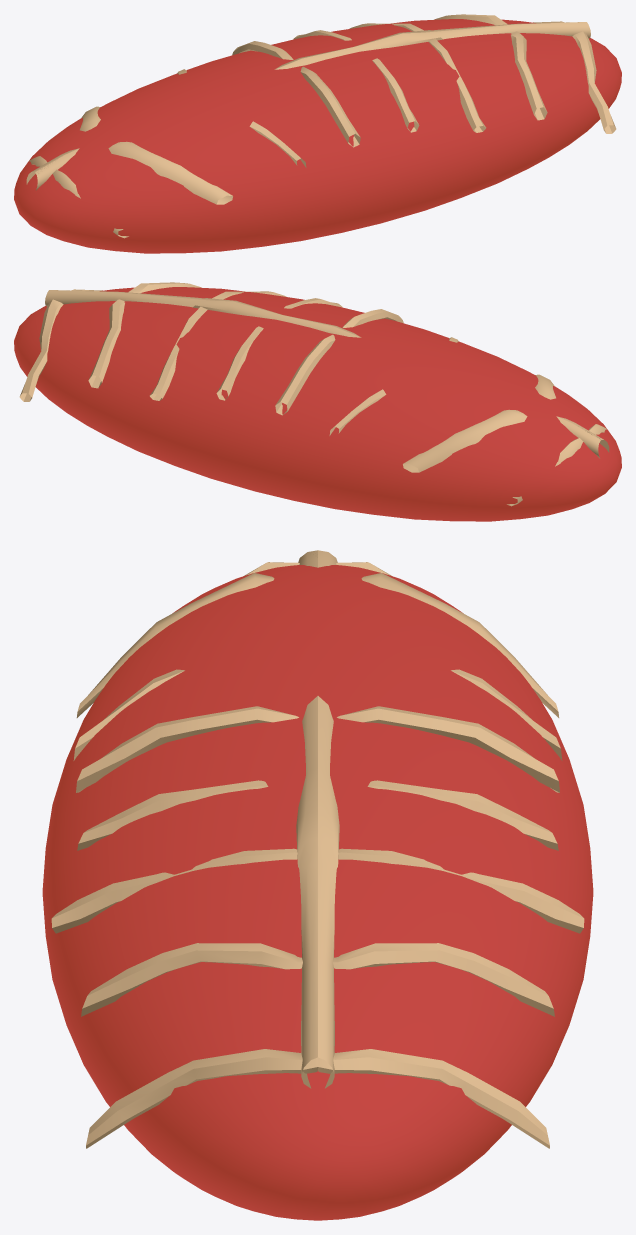
The model's file is Moby Dick - Inside.fbx.
3 renders of one model, top to bottom at view 1: azimuth 30°, elevation 25°; view 2: azimuth 150°, elevation 25°; view 3: azimuth 270°, elevation 25°, orthographic. The views are drawn at different scales.
Parts seen in each view (by area): view 1: Stomach, Spine; view 2: Stomach, Spine; view 3: Stomach, Spine.
Part boxes in pixels (x1,y1,x2,y2): Stomach: (14,19,621,253); Spine: (26,14,616,238); Stomach: (14,287,621,521); Spine: (19,282,609,506); Stomach: (42,565,593,1220); Spine: (51,550,584,1148).
Size of the model in its own units: 1395 by 360 by 561.
